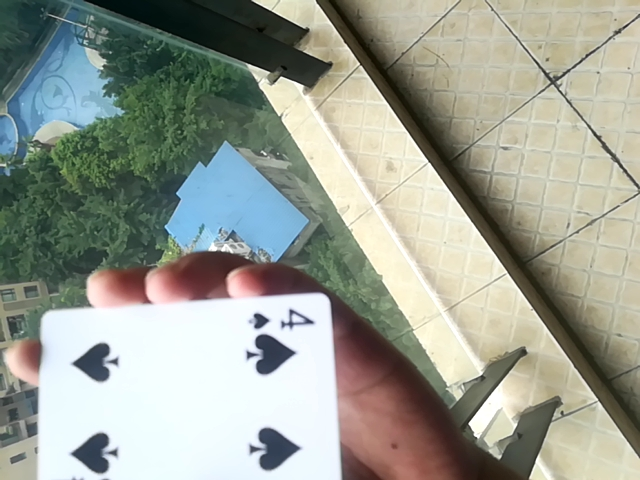ht 4: (26, 286, 347, 480)
